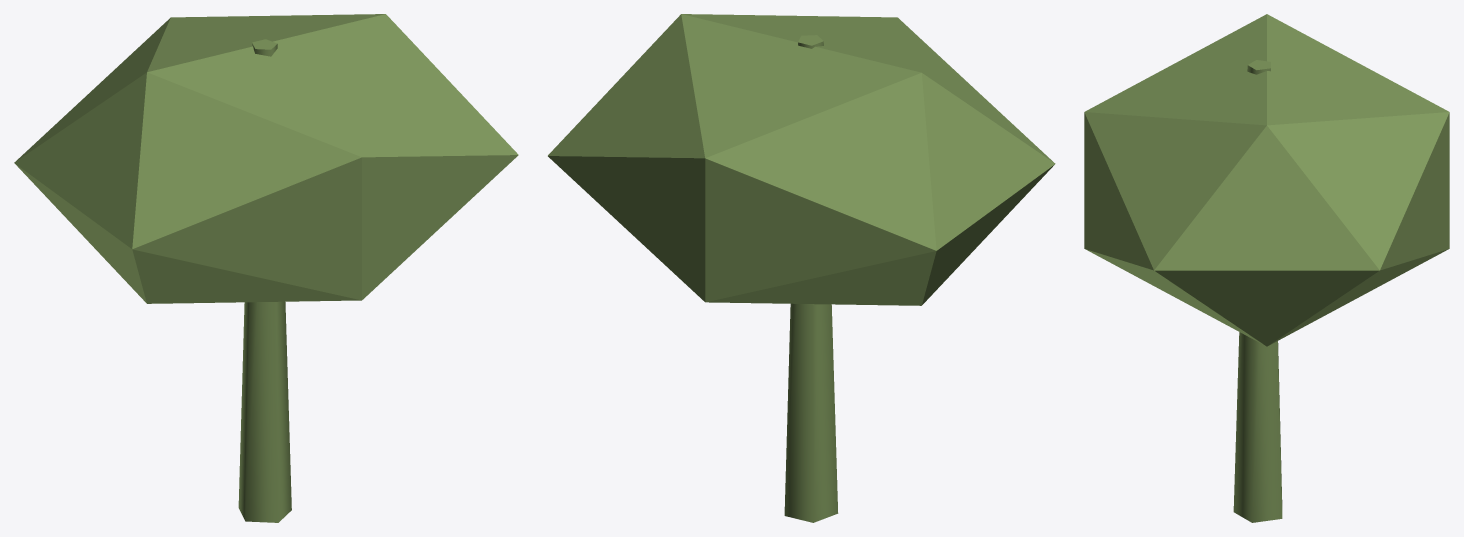
3 views of the same model, side by side, from view 1: azimuth 30°, elevation 25°; view 2: azimuth 150°, elevation 25°; view 3: azimuth 270°, elevation 25° (orthographic). The views are drawn at different scales.
Visible parts, largest first — view 1: shadow-crown; view 2: shadow-crown; view 3: shadow-crown.
Boxes of the visible parts, <box> form: shadow-crown: <box>14,14,518,522</box>; shadow-crown: <box>548,14,1055,522</box>; shadow-crown: <box>1084,14,1449,522</box>.
Size of the model in its own units: 6.66 by 7.7 by 5.7.
